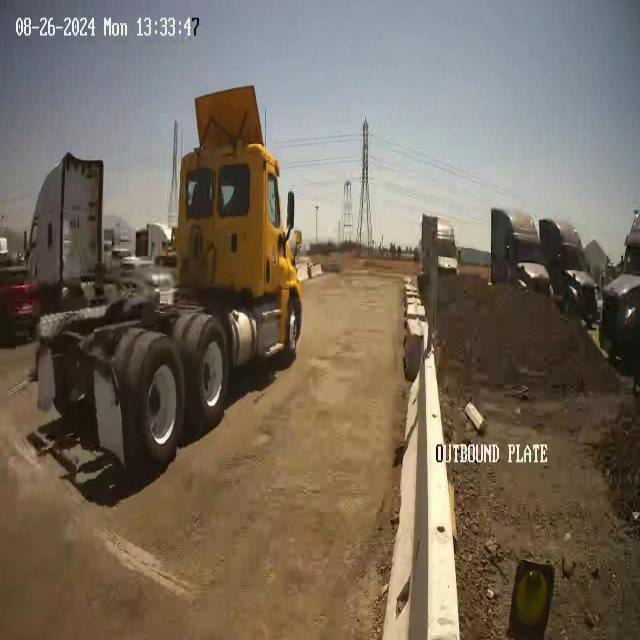BOBTAIL: (34, 82, 304, 476)
